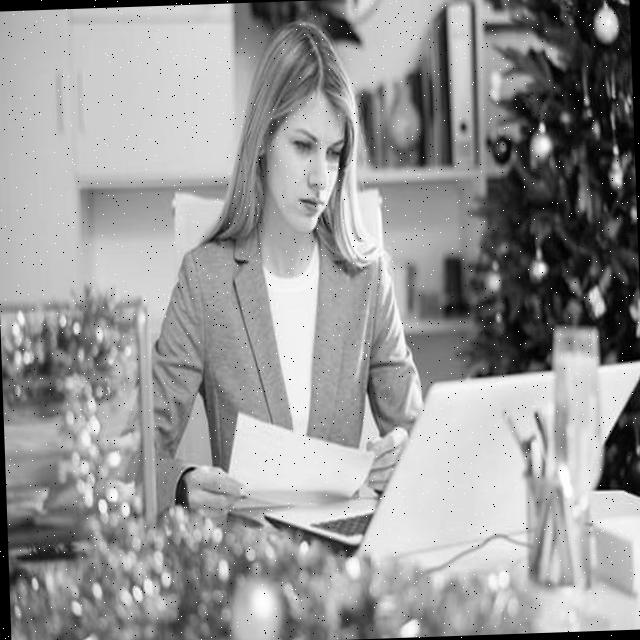Sadness: (268, 89, 348, 235)
